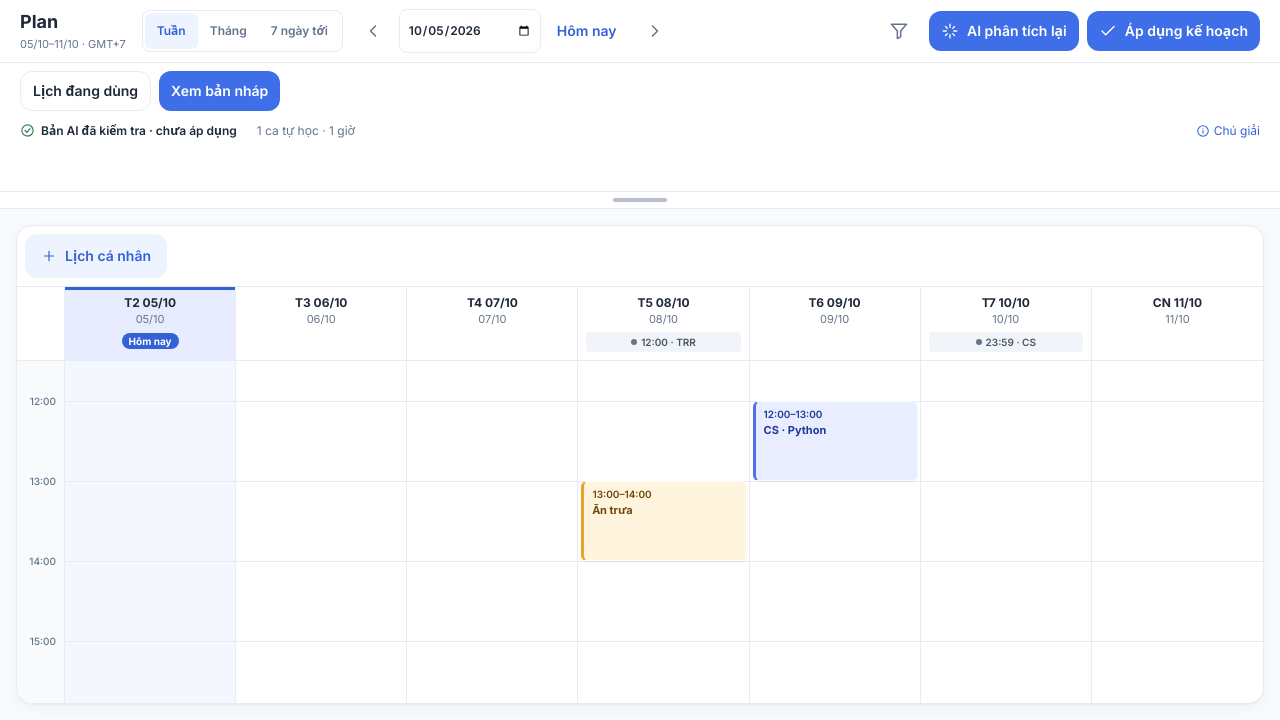
Scenario: student calendar editing workflow › requires opening the draft before showing its apply action
(page scrolled)
Check: the button "Áp dụng kế hoạch" is shown, box 1087,11 -> 1260,51
Step 1. Click the button "Lịch đang dùng" → (86, 91), box 20,71 -> 151,111
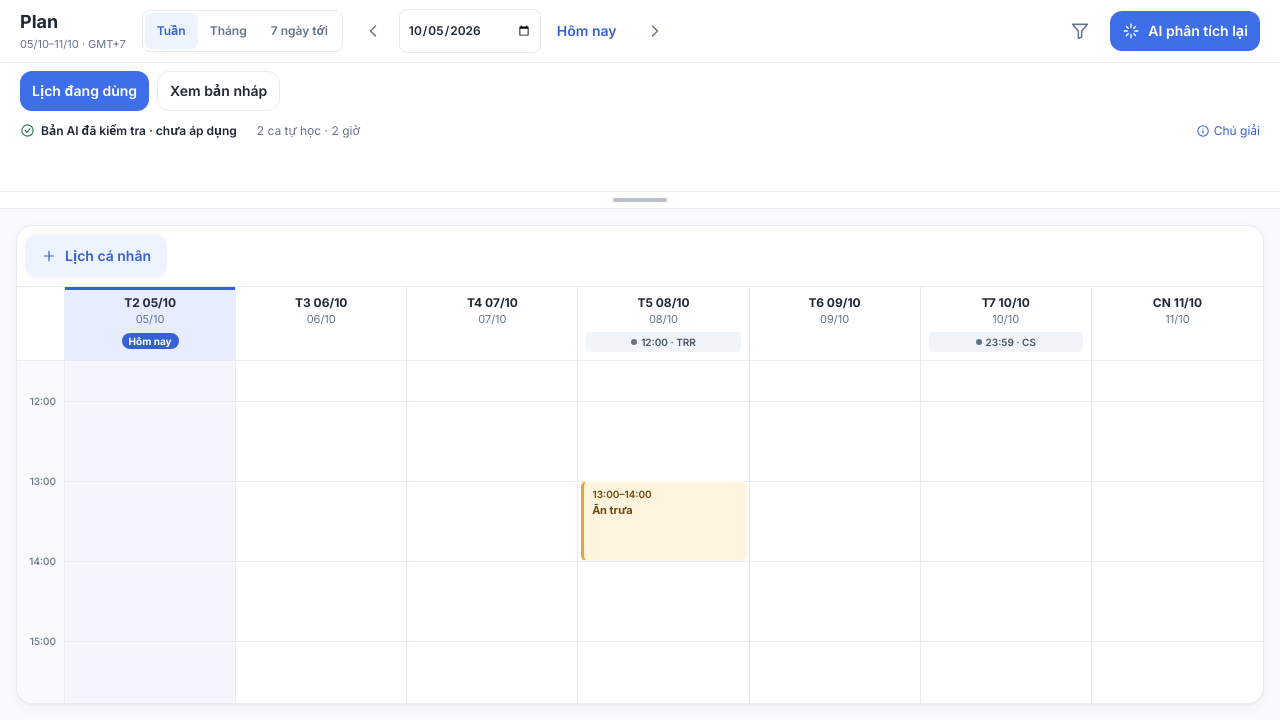
Check: the button "Áp dụng kế hoạch" is gone
